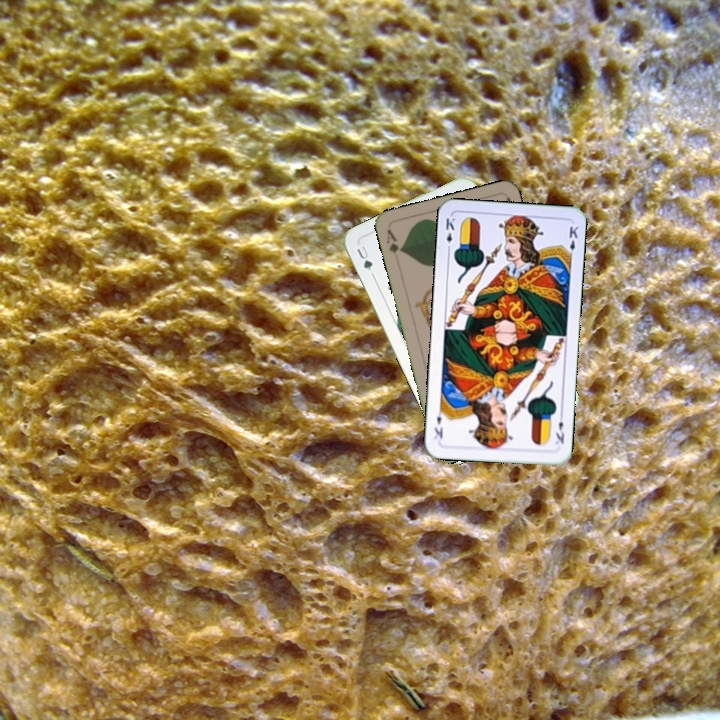EK: (442, 214, 457, 254), (552, 409, 567, 447)
GA: (382, 225, 405, 256)
GU: (352, 242, 375, 273)
